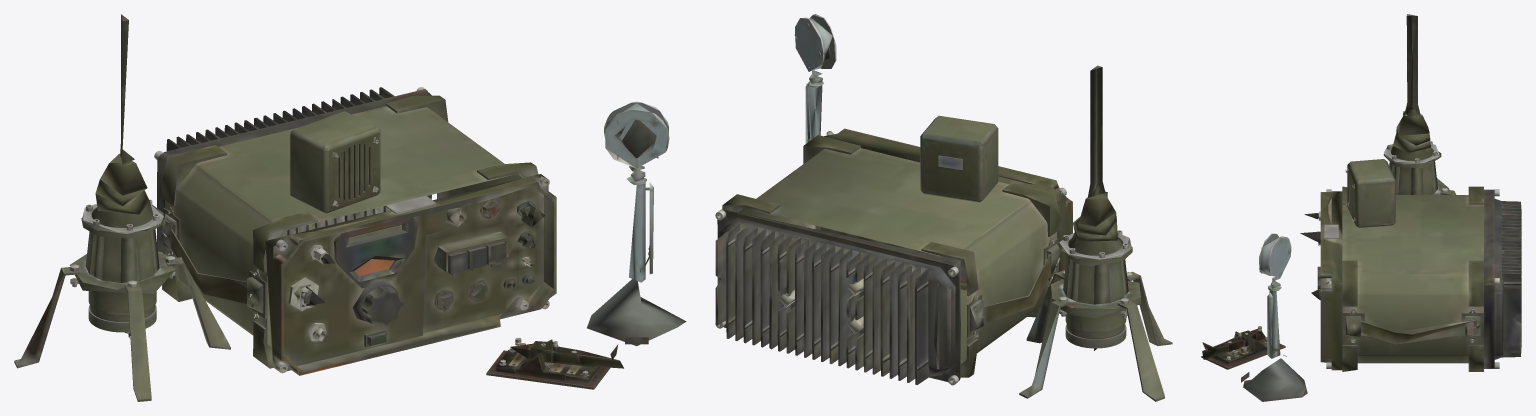
File: vintage_radio_transceiver_lod2.glb
3 views of the same model, side by side, from view 1: azimuth 30°, elevation 25°; view 2: azimuth 150°, elevation 25°; view 3: azimuth 270°, elevation 25° (orthographic). The views are drawn at different scales.
Visible parts, largest first — view 1: vintage_radio_transceiver, vintage_radio_transceiver_cable; view 2: vintage_radio_transceiver, vintage_radio_transceiver_cable; view 3: vintage_radio_transceiver, vintage_radio_transceiver_cable.
Boxes of the visible parts, box(x1,y1,x2,y2) form: vintage_radio_transceiver: box(154, 87, 556, 375); vintage_radio_transceiver_cable: box(14, 14, 686, 401); vintage_radio_transceiver: box(715, 128, 1072, 385); vintage_radio_transceiver_cable: box(794, 14, 1172, 401); vintage_radio_transceiver: box(1317, 186, 1521, 371); vintage_radio_transceiver_cable: box(1201, 14, 1456, 401).
Bounding box in the file's own units: 0.5612 × 0.3317 × 0.4102.
Materials: 2 (2 with a texture image).
